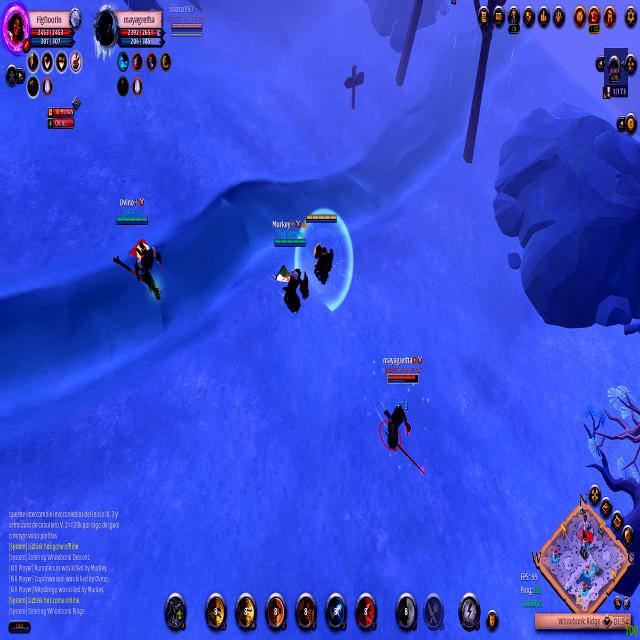red: (376, 353, 429, 482), (110, 194, 165, 308), (269, 218, 313, 327), (304, 205, 344, 308), (165, 3, 207, 39)
